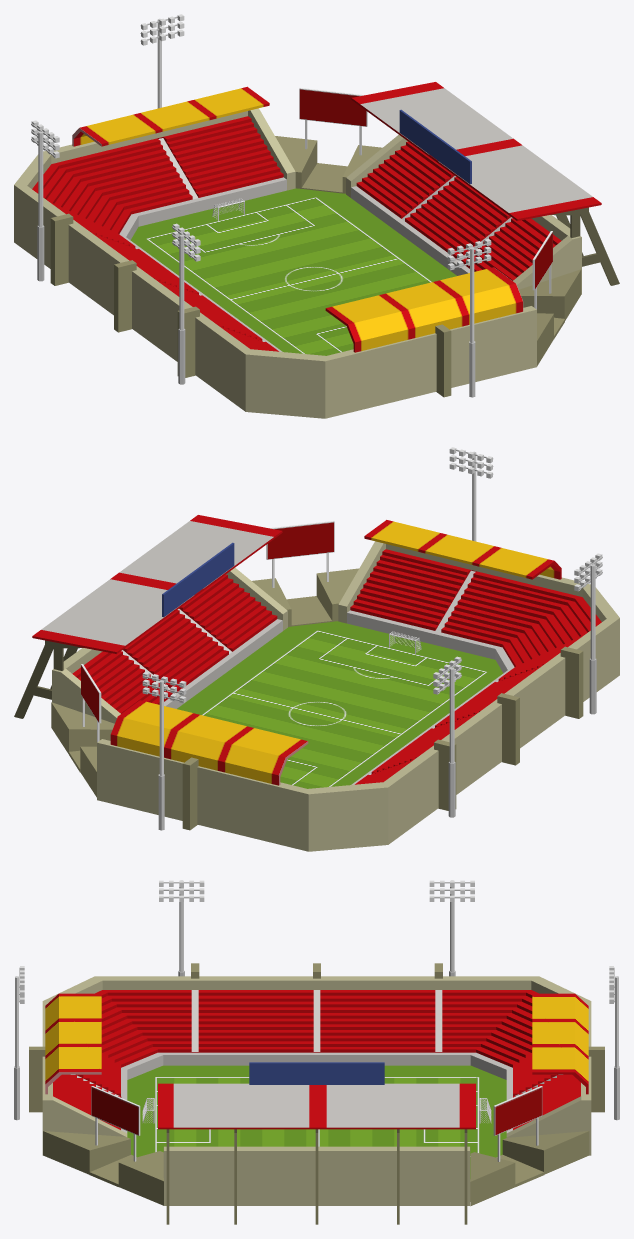
The model's file is stadium.glb.
The picture shows the model from 3 angles, top to bottom: view 1: azimuth 30°, elevation 25°; view 2: azimuth 150°, elevation 25°; view 3: azimuth 270°, elevation 25°; orthographic projection. The views are drawn at different scales.
Visible parts, largest first — view 1: Building_Stadium; view 2: Building_Stadium; view 3: Building_Stadium.
Boxes of the visible parts, <box> form: Building_Stadium: <box>14,14,619,418</box>; Building_Stadium: <box>14,447,619,851</box>; Building_Stadium: <box>14,880,619,1224</box>.
Size of the model in its own units: 35.46 by 11.73 by 44.76.
Materials: 1 (1 with a texture image).
